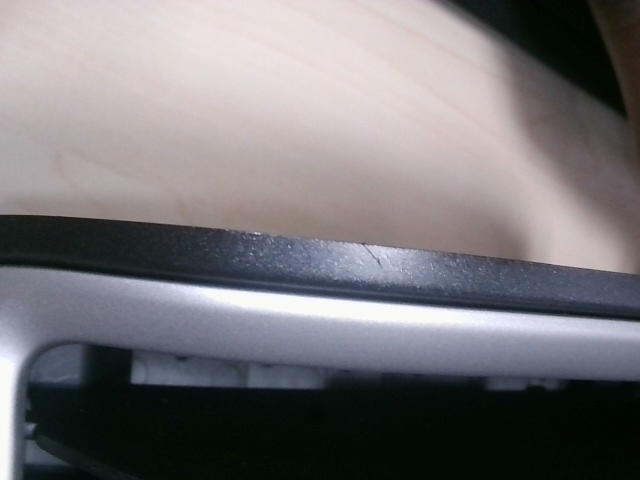NG: (356, 236, 389, 271)
